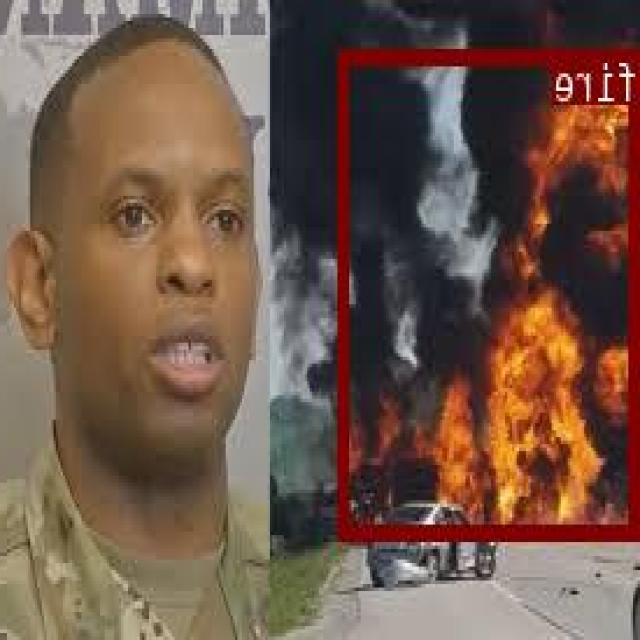fire: (340, 46, 640, 538)
